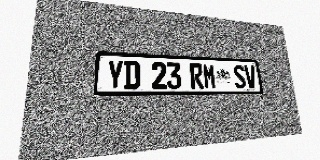2: (152, 62, 167, 89)
3: (166, 62, 181, 89)
D: (124, 61, 140, 89)
M: (202, 64, 217, 89)
R: (189, 63, 204, 89)
S: (233, 65, 246, 89)
V: (244, 65, 257, 89)
Y: (106, 60, 123, 90)
